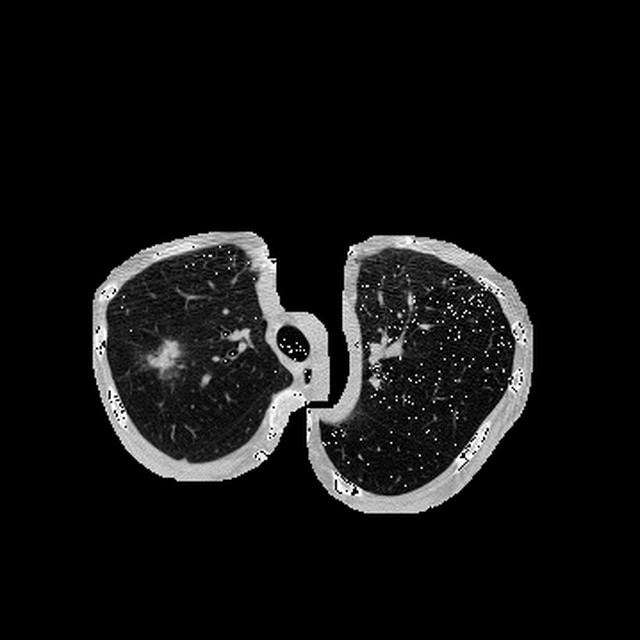PN: (146, 341, 185, 380)
